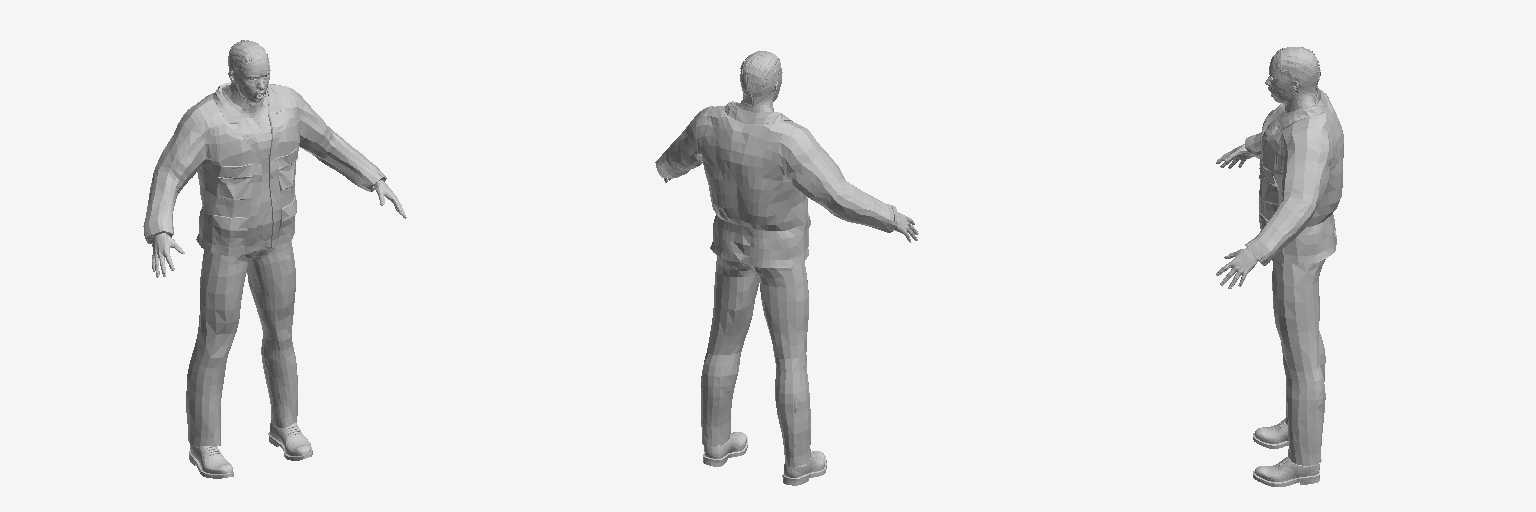
The picture shows the model from 3 angles: view 1: azimuth 30°, elevation 25°; view 2: azimuth 150°, elevation 25°; view 3: azimuth 270°, elevation 25°; orthographic projection.
Visible parts, largest first — view 1: Ml1:Male_casualsuit05, Ml1:Body, Ml1:Shoes03, Ml1:Short04; view 2: Ml1:Male_casualsuit05, Ml1:Short04, Ml1:Shoes03, Ml1:Body; view 3: Ml1:Male_casualsuit05, Ml1:Body, Ml1:Shoes03, Ml1:Short04.
Part boxes in pixels (x1,y1,x2,y2): Ml1:Male_casualsuit05: (143, 82, 386, 446); Ml1:Body: (152, 61, 406, 277); Ml1:Shoes03: (189, 420, 312, 478); Ml1:Short04: (228, 40, 269, 85); Ml1:Male_casualsuit05: (655, 101, 898, 466); Ml1:Short04: (740, 51, 781, 107); Ml1:Shoes03: (703, 432, 826, 485); Ml1:Body: (664, 72, 918, 242); Ml1:Male_casualsuit05: (1245, 87, 1343, 465); Ml1:Body: (1216, 59, 1316, 288); Ml1:Shoes03: (1253, 418, 1319, 486); Ml1:Short04: (1272, 47, 1320, 95).
Bounding box in the file's own units: 1.31 × 2.08 × 0.5843.